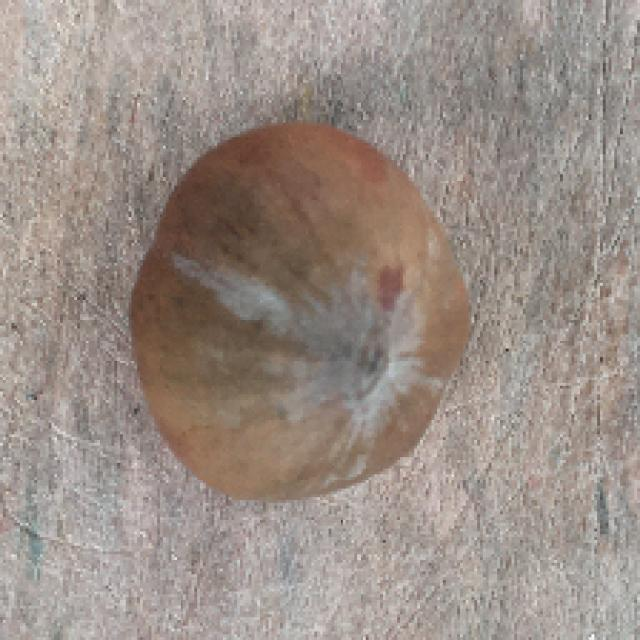damagedHazelnut: (129, 115, 475, 512)
